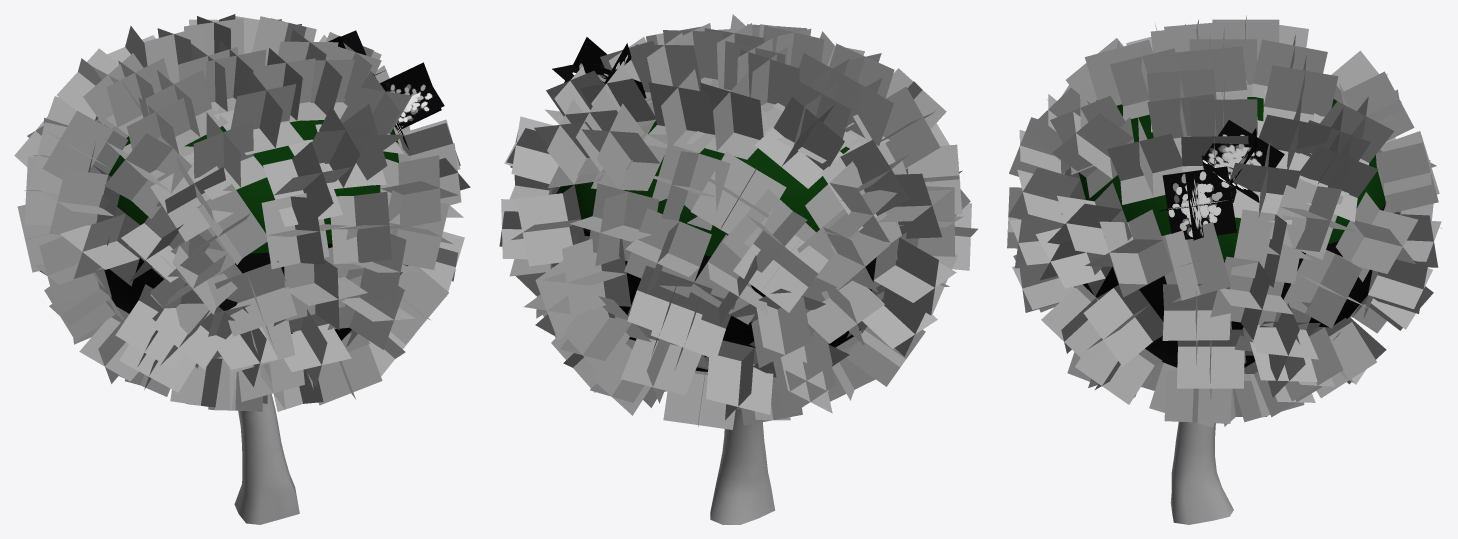
The model's file is sm_Tree01_LOD02.fbx.
3 renders of one model, left to right at view 1: azimuth 30°, elevation 25°; view 2: azimuth 150°, elevation 25°; view 3: azimuth 270°, elevation 25°, orthographic. The views are drawn at different scales.
Parts seen in each view (by area): view 1: sm_Tree01_TreeLeaves_LOD02, sm_Tree01_TreeCanopy_LOD02, sm_Tree01_TreeTrunk_LOD02; view 2: sm_Tree01_TreeLeaves_LOD02, sm_Tree01_TreeCanopy_LOD02, sm_Tree01_TreeTrunk_LOD02; view 3: sm_Tree01_TreeLeaves_LOD02, sm_Tree01_TreeCanopy_LOD02, sm_Tree01_TreeTrunk_LOD02.
Part boxes in pixels (x1,y1,x2,y2): sm_Tree01_TreeLeaves_LOD02: (14, 14, 470, 411); sm_Tree01_TreeCanopy_LOD02: (104, 120, 398, 340); sm_Tree01_TreeTrunk_LOD02: (217, 357, 299, 524); sm_Tree01_TreeLeaves_LOD02: (499, 14, 977, 429); sm_Tree01_TreeCanopy_LOD02: (556, 121, 876, 371); sm_Tree01_TreeTrunk_LOD02: (695, 370, 775, 524); sm_Tree01_TreeLeaves_LOD02: (1007, 15, 1441, 427); sm_Tree01_TreeCanopy_LOD02: (1078, 97, 1385, 367); sm_Tree01_TreeTrunk_LOD02: (1170, 421, 1233, 524).
Bounding box in the file's own units: 61.01 × 66.99 × 58.37.
